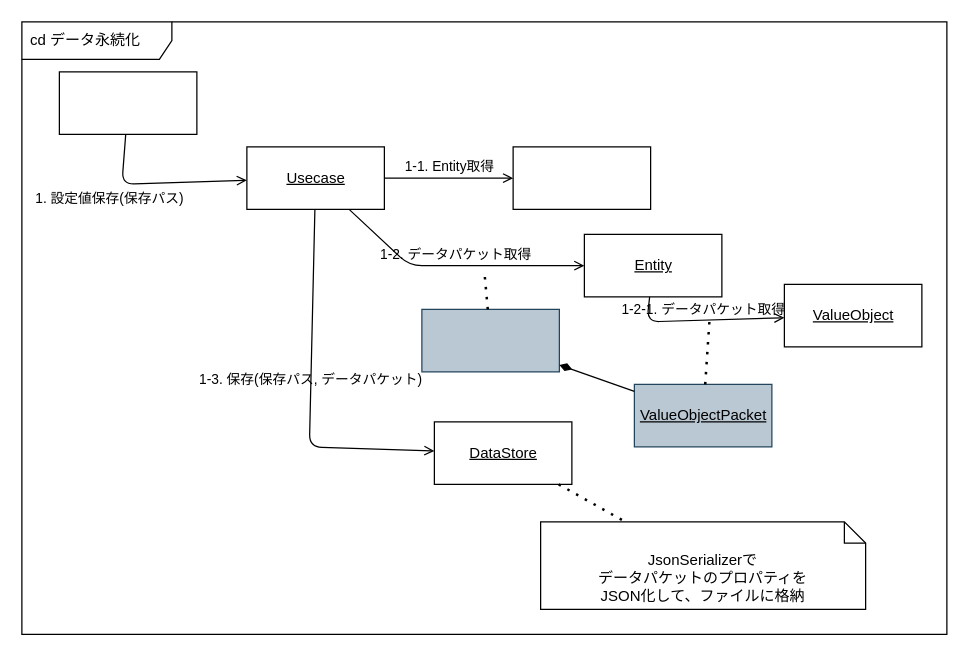
Some shapes in this 969 by 656 pixel diagram are drawn without their labels. The centre of each missing label's shape, as x and y in pixels:
"App" goes at point (127, 102).
"EntityPacket" goes at point (490, 340).
"Repository" goes at point (581, 177).
